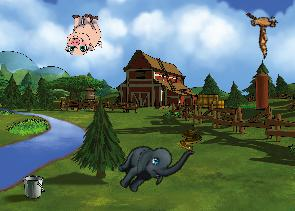eagle: (234, 0, 291, 59)
elephant: (110, 121, 195, 210)
pig: (64, 13, 102, 55)
